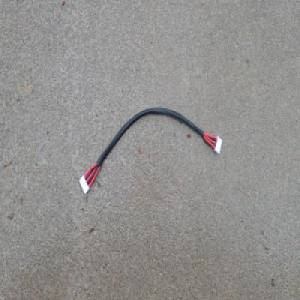Wire: (78, 104, 223, 195)
